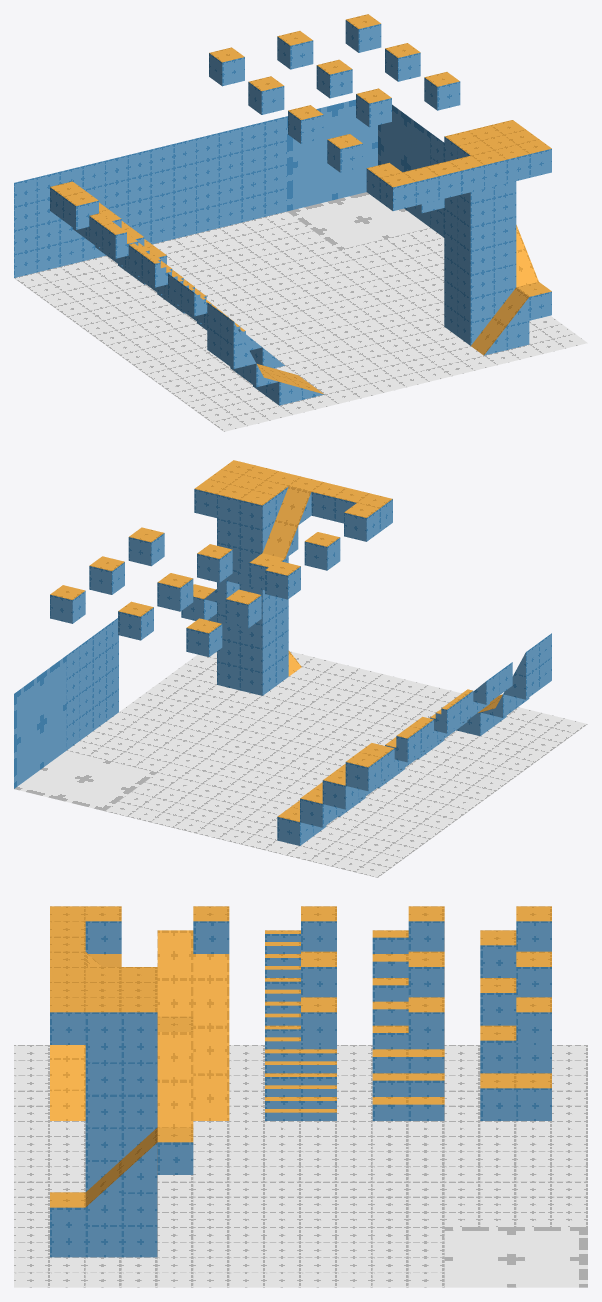
The picture shows the model from 3 angles, top to bottom: view 1: azimuth 30°, elevation 25°; view 2: azimuth 150°, elevation 25°; view 3: azimuth 270°, elevation 25°; orthographic projection. The views are drawn at different scales.
Visible parts, largest first — view 1: floor-4x4 (×15), cube (×33), wall-4x4 (×4), default, ramp-full (×4), stair-half, ramp-half-top, ramp-half-bottom-steep, stair-quarter; view 2: floor-4x4 (×15), cube (×30), default, wall-4x4, ramp-full (×3), stair-half, stair-quarter, ramp-half-bottom-steep, ramp-half-top; view 3: floor-4x4 (×15), cube (×48), ramp-full (×10), stair-half (×6), stair-quarter (×6), default, ramp-half-bottom, ramp-half-top.
Boxes of the visible parts, x1,y1,x2,y2 form: floor-4x4 (×15): (14, 211, 587, 431); cube (×33): (50, 14, 551, 349); wall-4x4 (×4): (14, 116, 444, 277); default: (287, 99, 430, 249); ramp-full (×4): (181, 248, 538, 355); stair-half: (102, 222, 138, 258); ramp-half-top: (266, 372, 301, 405); ramp-half-bottom-steep: (220, 336, 256, 368); stair-quarter: (141, 253, 177, 287); floor-4x4 (×15): (67, 651, 587, 877); cube (×30): (50, 479, 394, 845); default: (14, 655, 156, 811); wall-4x4: (66, 618, 118, 749); ramp-full (×3): (262, 486, 499, 704); stair-half: (385, 726, 420, 762); stair-quarter: (430, 699, 460, 733); ramp-half-bottom-steep: (503, 666, 538, 699); ramp-half-top: (457, 703, 493, 736); floor-4x4 (×15): (14, 1045, 587, 1287); cube (×48): (50, 906, 551, 1257); ramp-full (×10): (85, 930, 229, 1207); stair-half (×6): (372, 930, 444, 1120); stair-quarter (×6): (265, 930, 336, 1120); default: (444, 1227, 587, 1287); ramp-half-bottom: (50, 1089, 85, 1120); ramp-half-top: (50, 1058, 85, 1089).
Bounding box in the file's own units: 16 × 8 × 16.
Materials: 1 (1 with a texture image).
